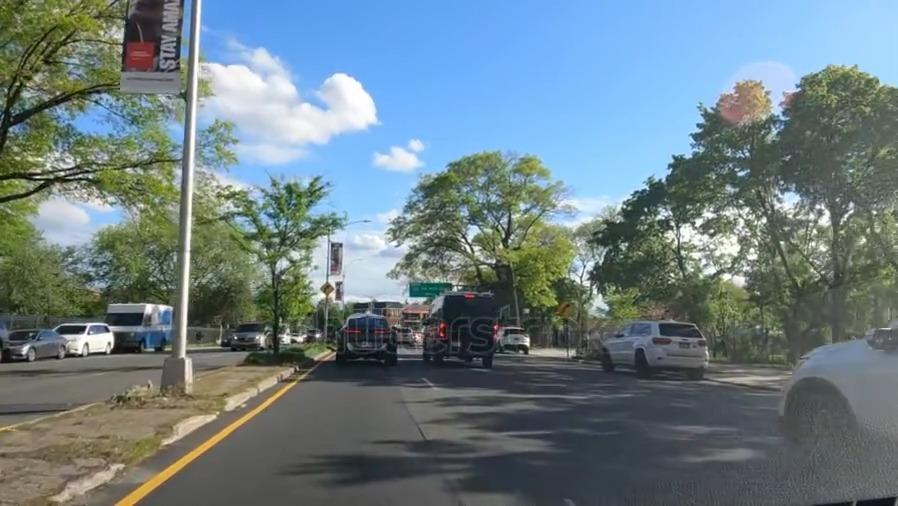car: (783, 321, 898, 474), (597, 319, 705, 376), (338, 309, 390, 372), (62, 323, 113, 357), (13, 329, 65, 361), (502, 321, 533, 353), (232, 324, 270, 346)
van: (425, 296, 501, 363), (105, 301, 174, 350)
wheel: (791, 387, 850, 495)
